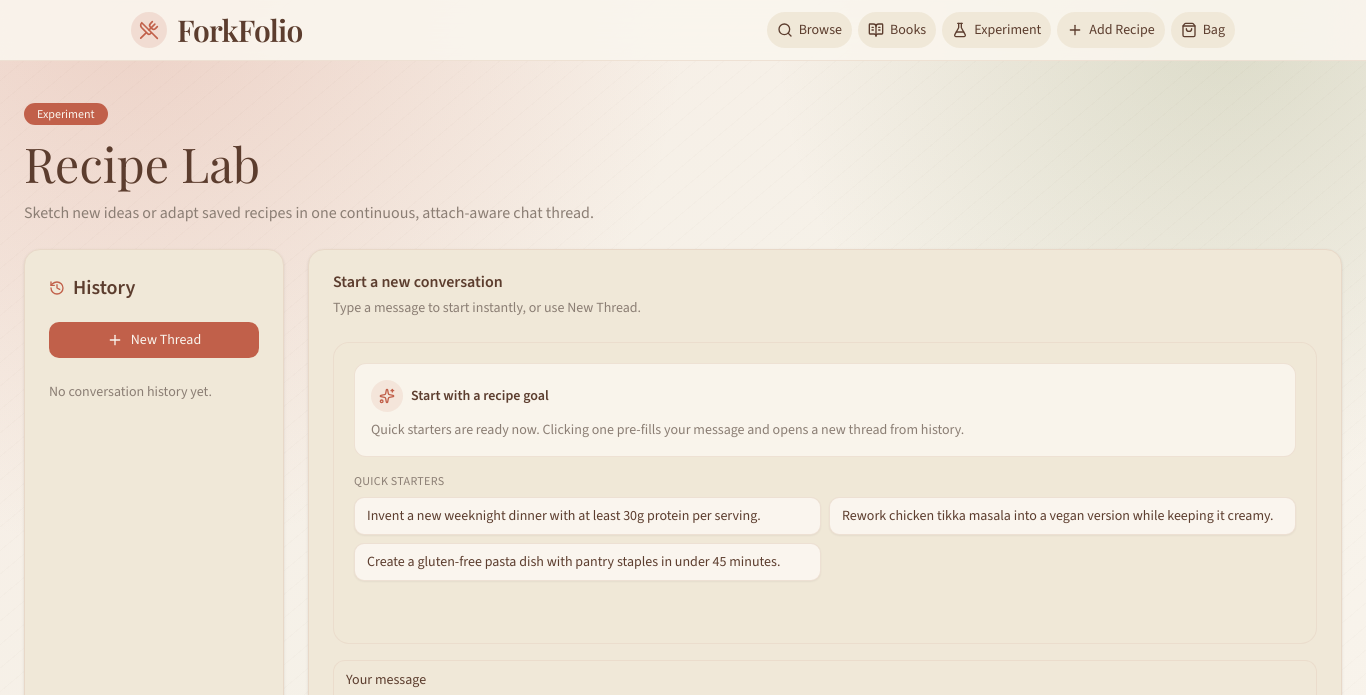
Test: /experiment page › starts a new thread from sidebar and renders active conversation
Step 1. Click the button "New Thread" → (154, 340), box 49,322 -> 259,358
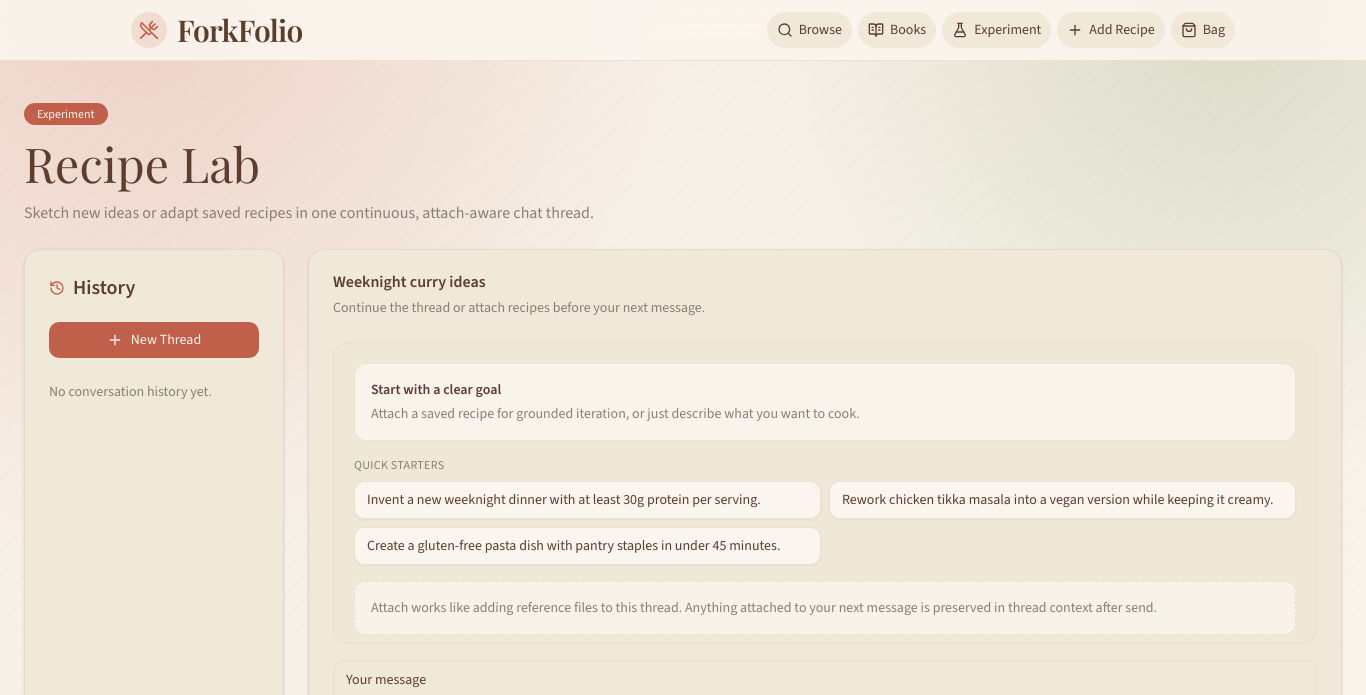
Now the text "Weeknight curry ideas" is shown, box 333,271 -> 486,292
